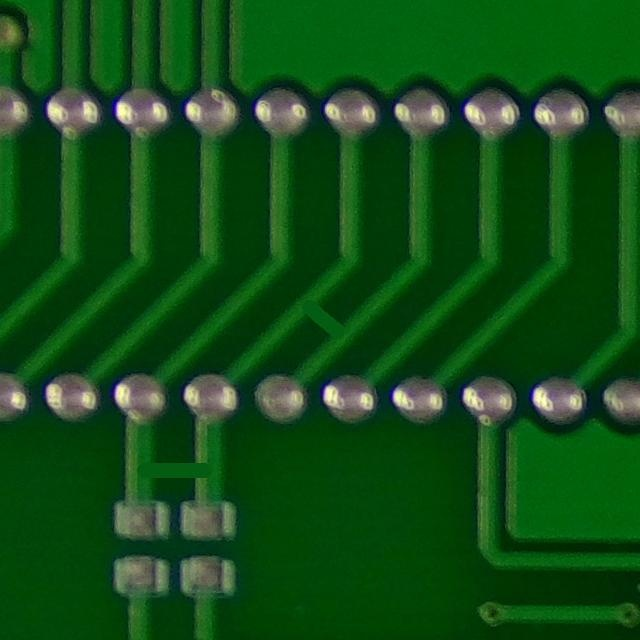short: (280, 291, 361, 350)
